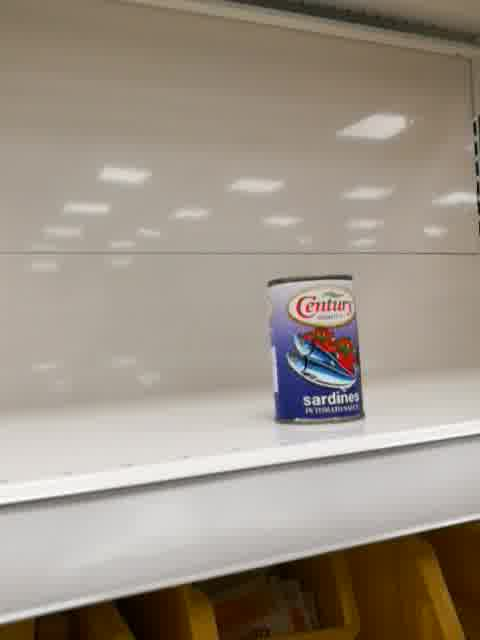sardine: (263, 273, 367, 427)
